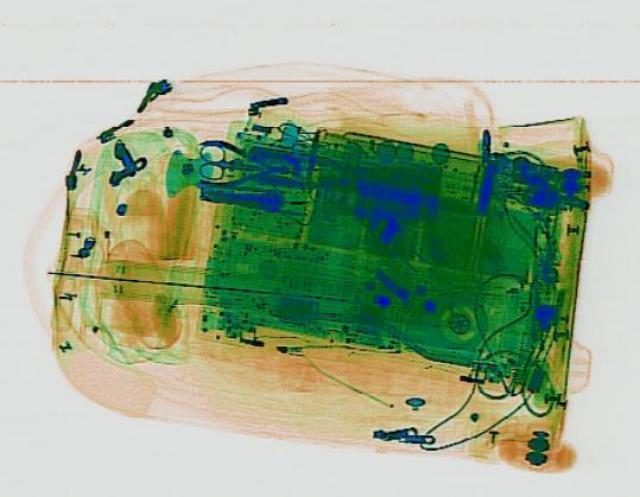Scissors: (192, 138, 282, 185)
